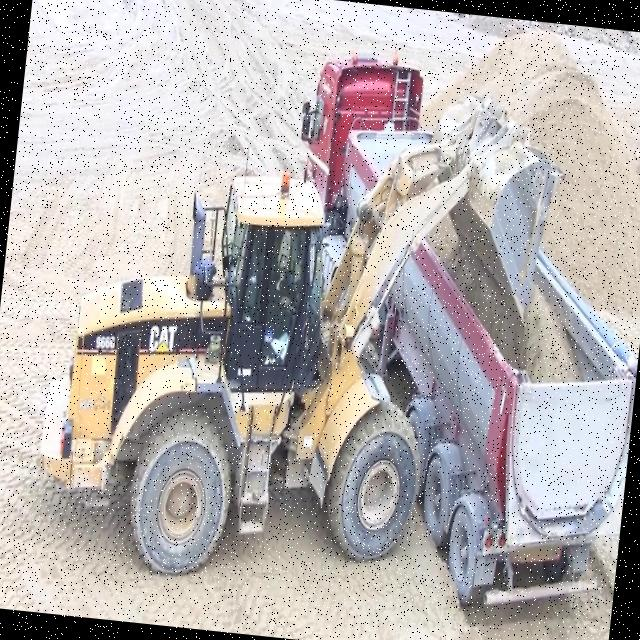Dump Truck: (250, 41, 640, 622)
Loader: (26, 48, 572, 614)
